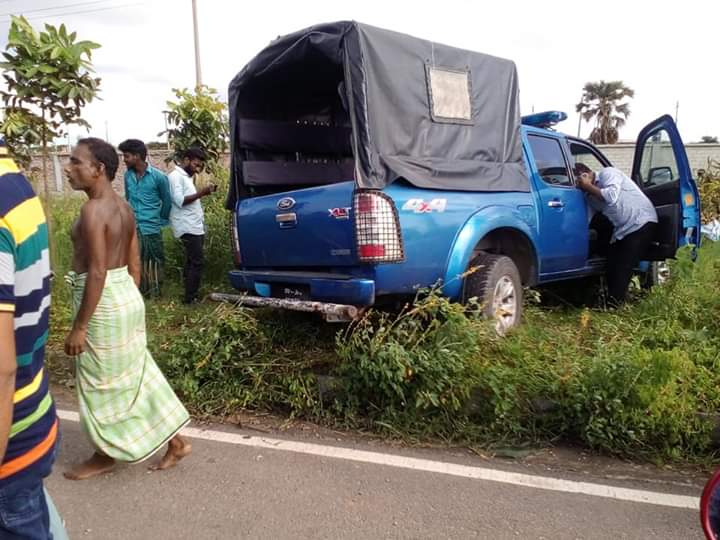policecar: (209, 18, 706, 331)
